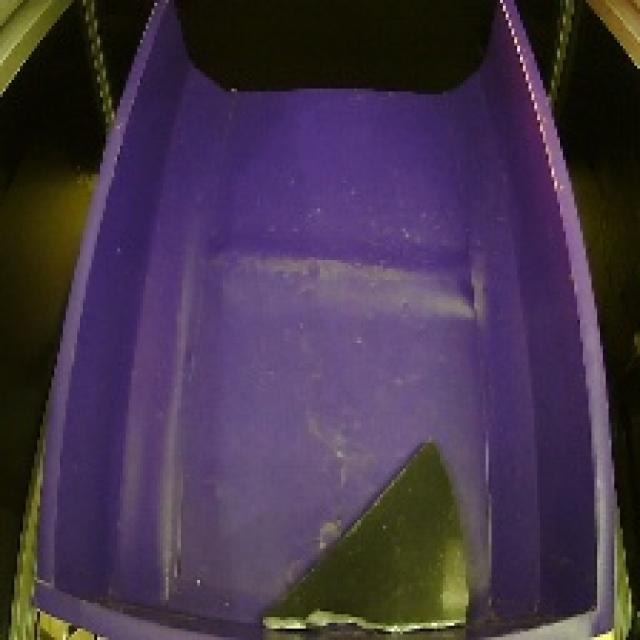china: (251, 427, 476, 640)
